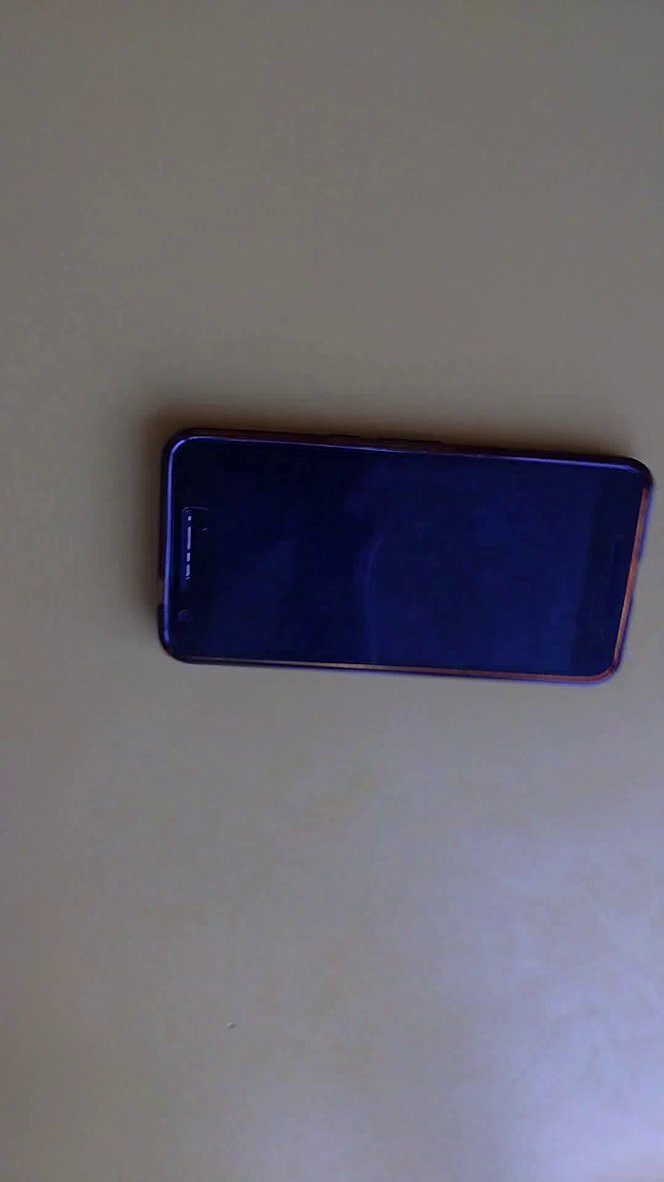phone: (126, 402, 658, 706)
